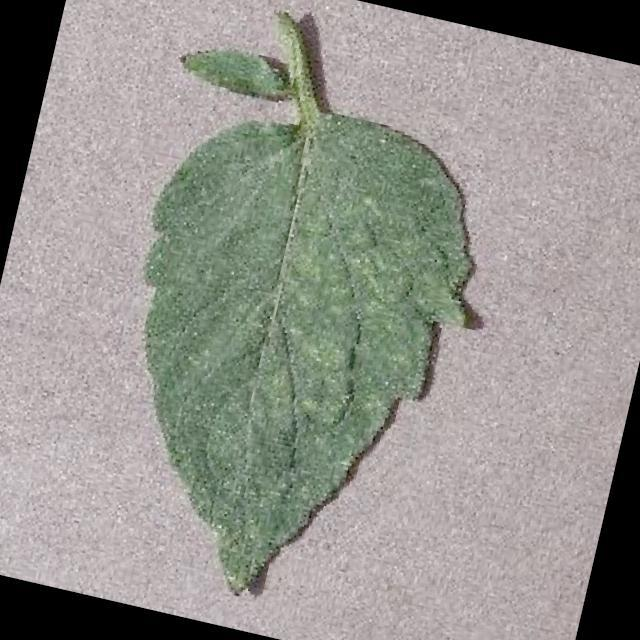Tomato spider mites leaf: (75, 80, 515, 634)
